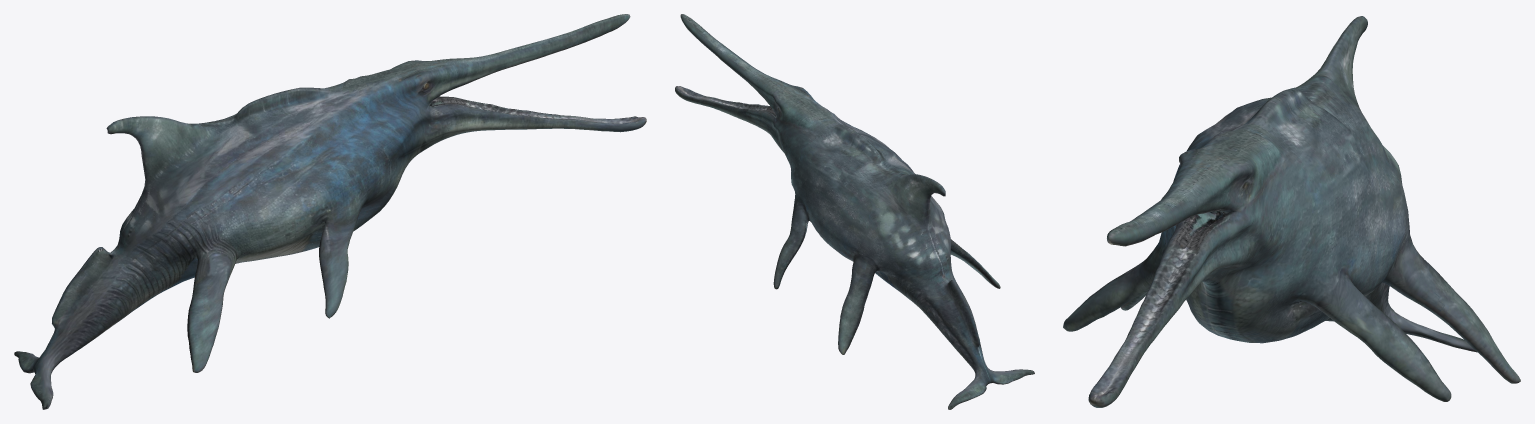
3 renders of one model, left to right at view 1: azimuth 30°, elevation 25°; view 2: azimuth 150°, elevation 25°; view 3: azimuth 270°, elevation 25°, orthographic. The views are drawn at different scales.
Parts seen in each view (by area): view 1: Mesh0; view 2: Mesh0; view 3: Mesh0.
Boxes of the visible parts, <box> form: Mesh0: <box>14,14,646,409</box>; Mesh0: <box>675,14,1034,409</box>; Mesh0: <box>1063,16,1520,407</box>.
Bounding box in the file's own units: 1.2 × 0.6723 × 0.5883.
Materials: 1 (1 with a texture image).
